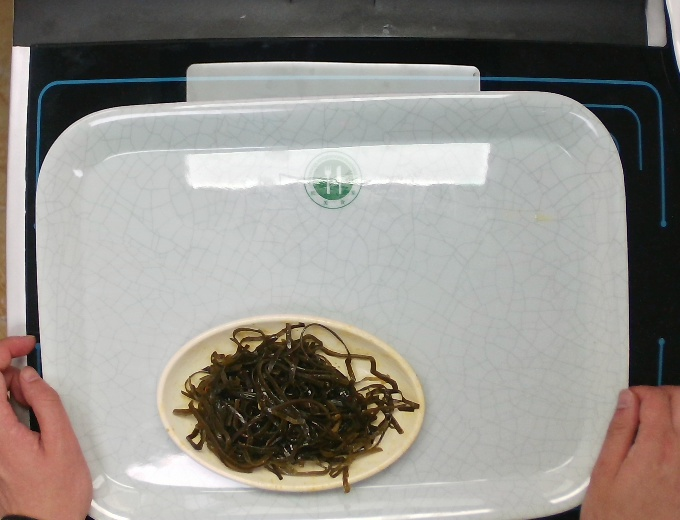JYsf-Tuo_Yuan_Wan: (151, 310, 430, 498)
